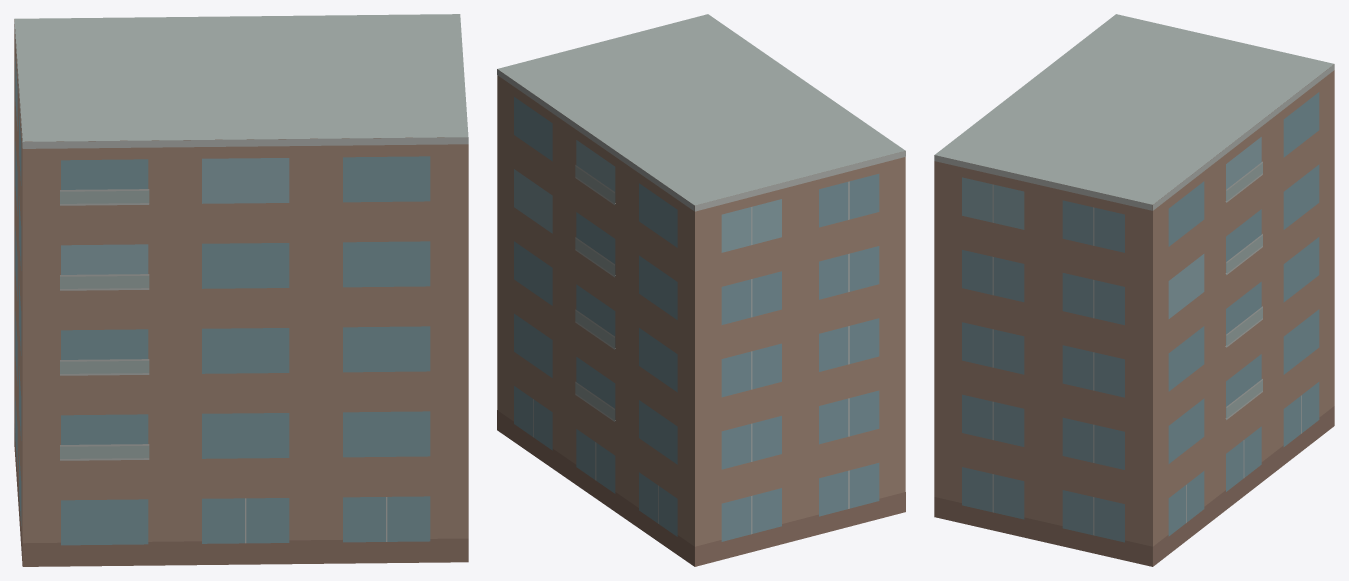
Rendered from survey-upis-32623785.glb.
3 views of the same model, side by side, from view 1: azimuth 30°, elevation 25°; view 2: azimuth 150°, elevation 25°; view 3: azimuth 270°, elevation 25° (orthographic). The views are drawn at different scales.
Visible parts, largest first — view 1: survey-upis-32623785.tmp; view 2: survey-upis-32623785.tmp; view 3: survey-upis-32623785.tmp.
Boxes of the visible parts, x1,y1,x2,y2 form: survey-upis-32623785.tmp: (14,14,468,566); survey-upis-32623785.tmp: (497,14,905,566); survey-upis-32623785.tmp: (934,14,1334,566).
Size of the model in its own units: 16.4 by 14.5 by 14.53.
